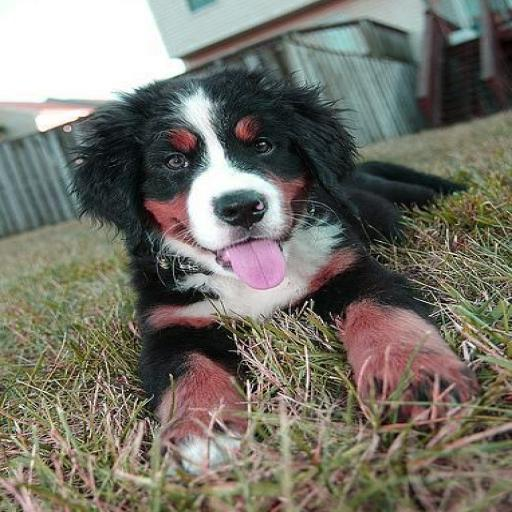dog_face: (74, 73, 354, 276)
